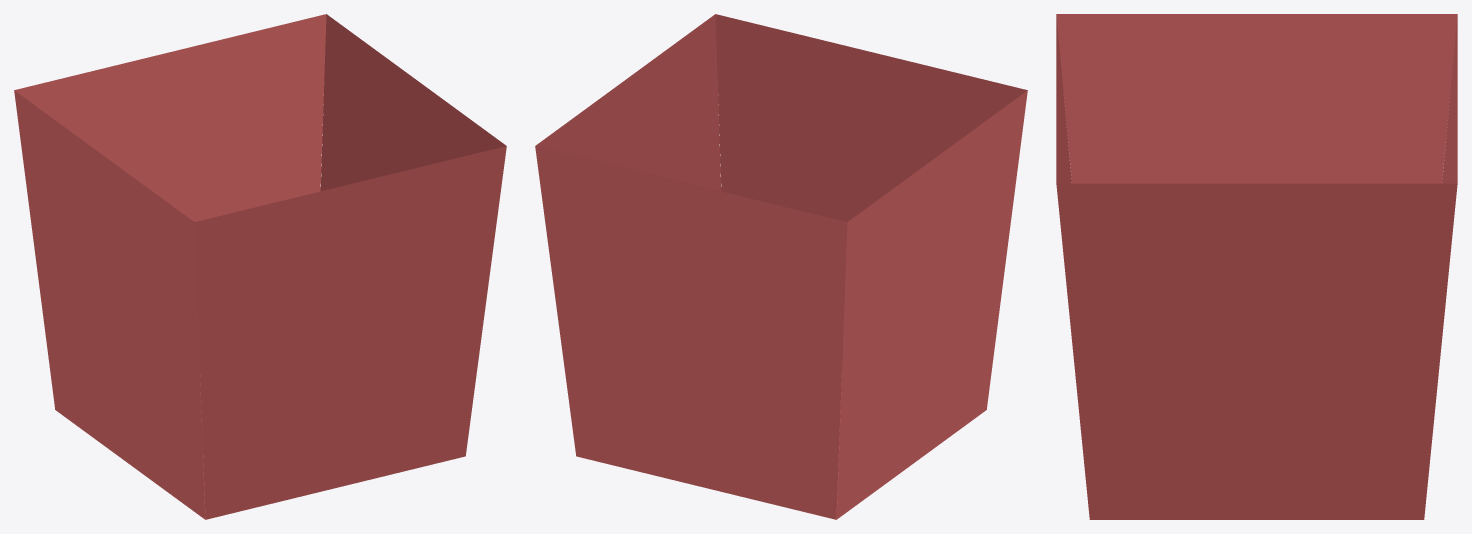
The model's file is koopa1_map.glb.
3 renders of one model, left to right at view 1: azimuth 30°, elevation 25°; view 2: azimuth 150°, elevation 25°; view 3: azimuth 270°, elevation 25°, orthographic. The views are drawn at different scales.
Parts seen in each view (by area): view 1: koopa1_map_col; view 2: koopa1_map_col; view 3: koopa1_map_col.
Part boxes in pixels (left/top/right/bottom): koopa1_map_col: left=14, top=14, right=506, bottom=519; koopa1_map_col: left=535, top=14, right=1027, bottom=519; koopa1_map_col: left=1056, top=14, right=1457, bottom=519.
Size of the model in its own units: 19.2 by 18.5 by 19.2.
